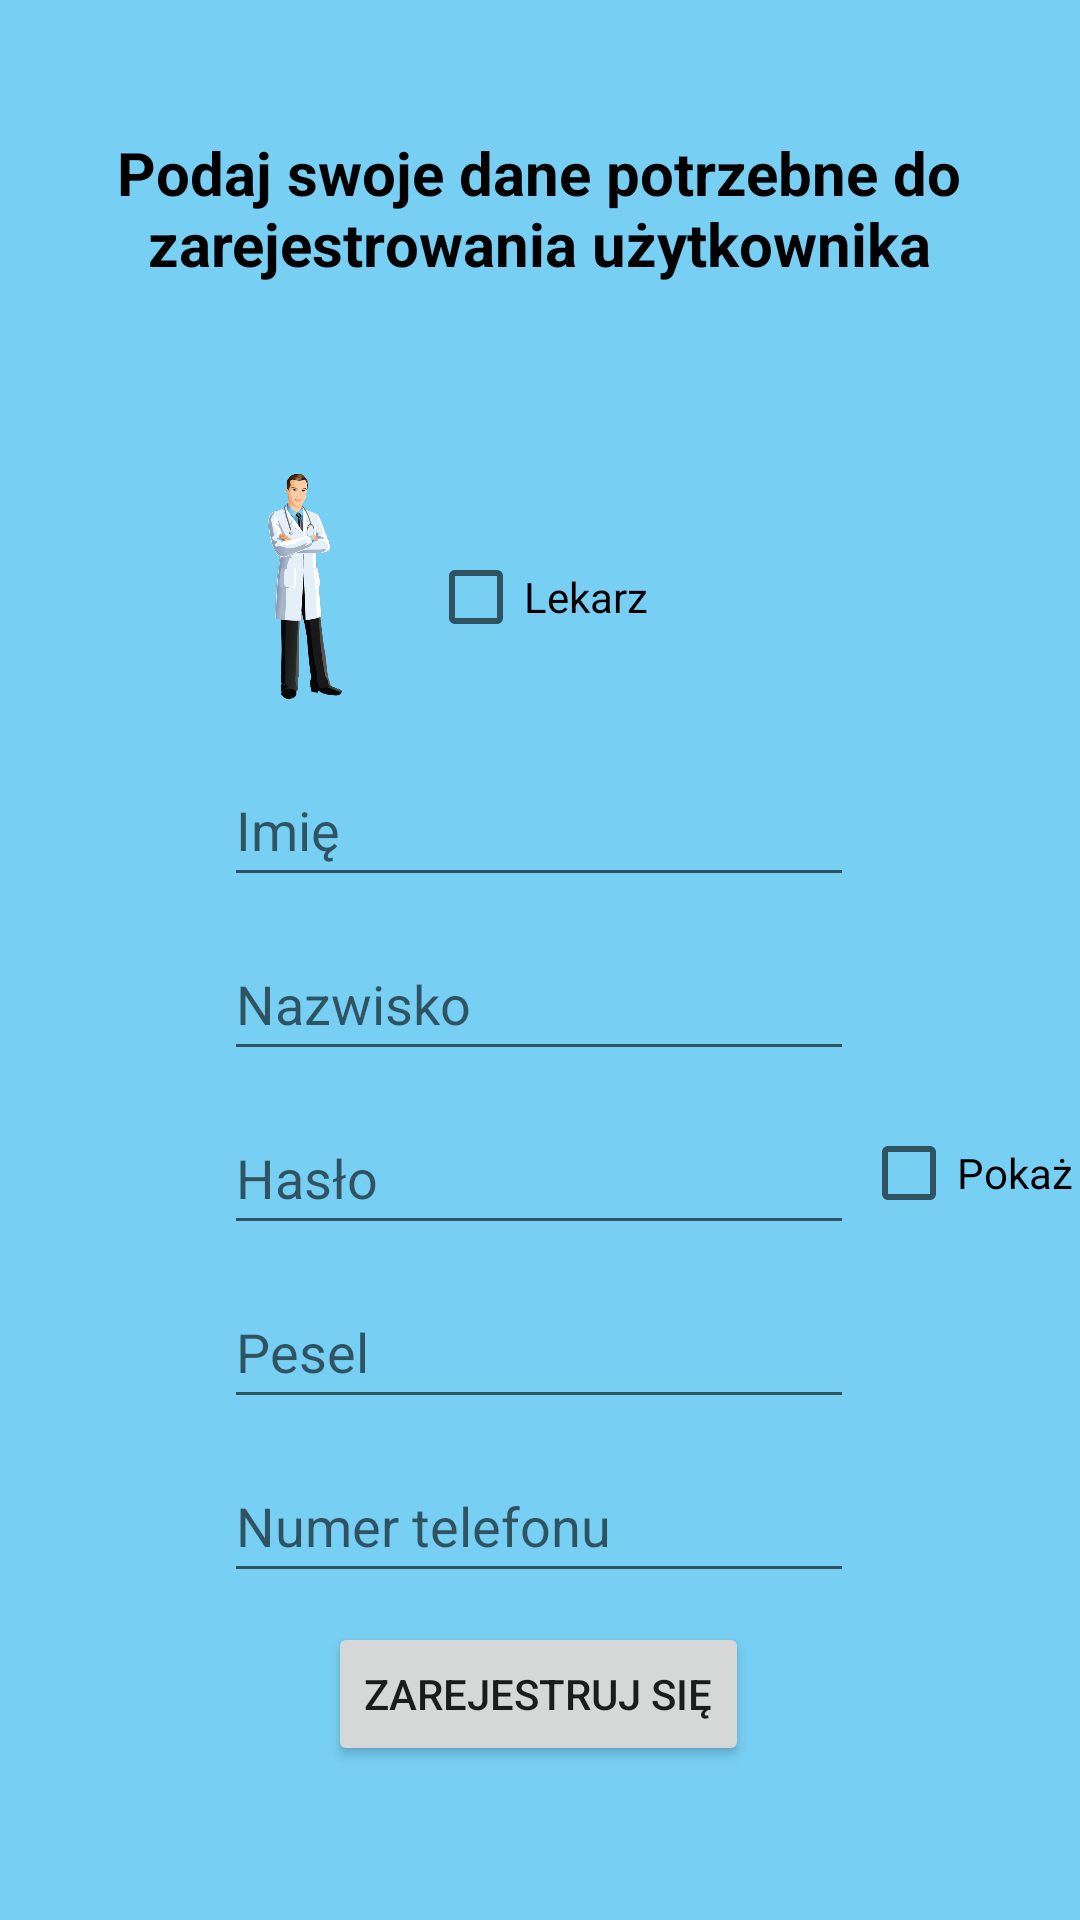

Icons on this 1080px x 1920px Android screen, each with its box as {"x1": x1, "y1": y1, "x2": x2, "y2": y2}:
doc: {"x1": 268, "y1": 474, "x2": 342, "y2": 699}
